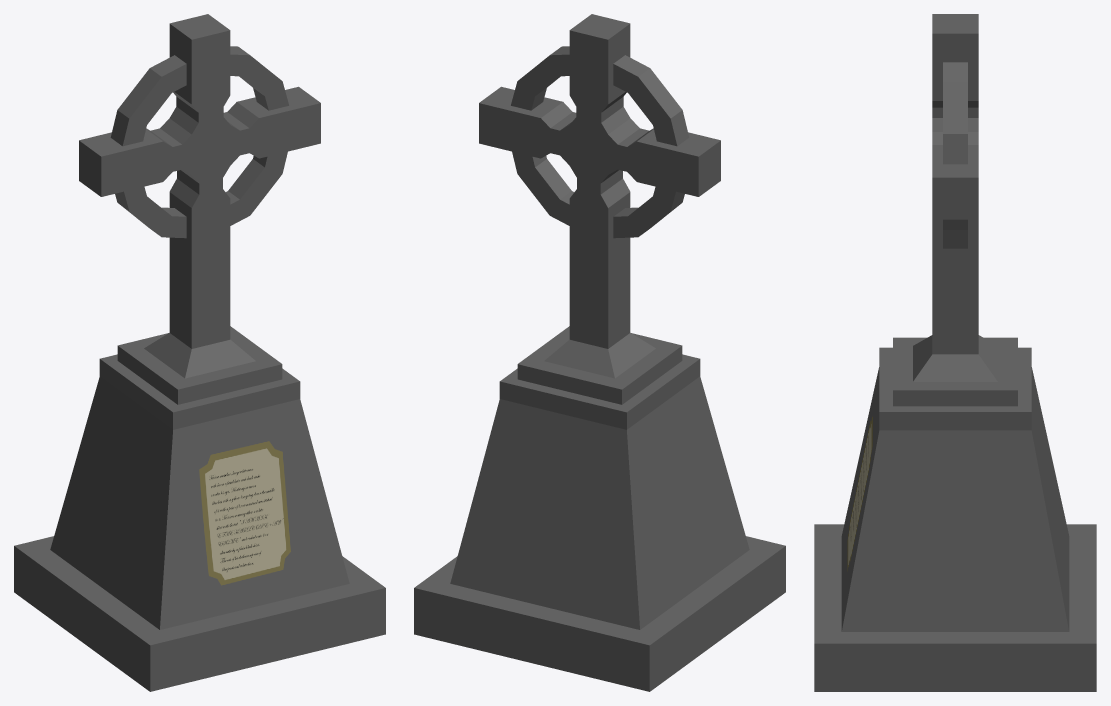
The model's file is tombstone.glb.
The picture shows the model from 3 angles, left to right: view 1: azimuth 30°, elevation 25°; view 2: azimuth 150°, elevation 25°; view 3: azimuth 270°, elevation 25°; orthographic projection. The views are drawn at different scales.
Parts seen in each view (by area): view 1: Cube.001; view 2: Cube.001; view 3: Cube.001.
Boxes of the visible parts, <box> form: Cube.001: <box>14,14,385,691</box>; Cube.001: <box>414,14,785,691</box>; Cube.001: <box>814,14,1096,691</box>.
Bounding box in the file's own units: 12.19 × 28.99 × 12.19.
1 material, 1 textured.
